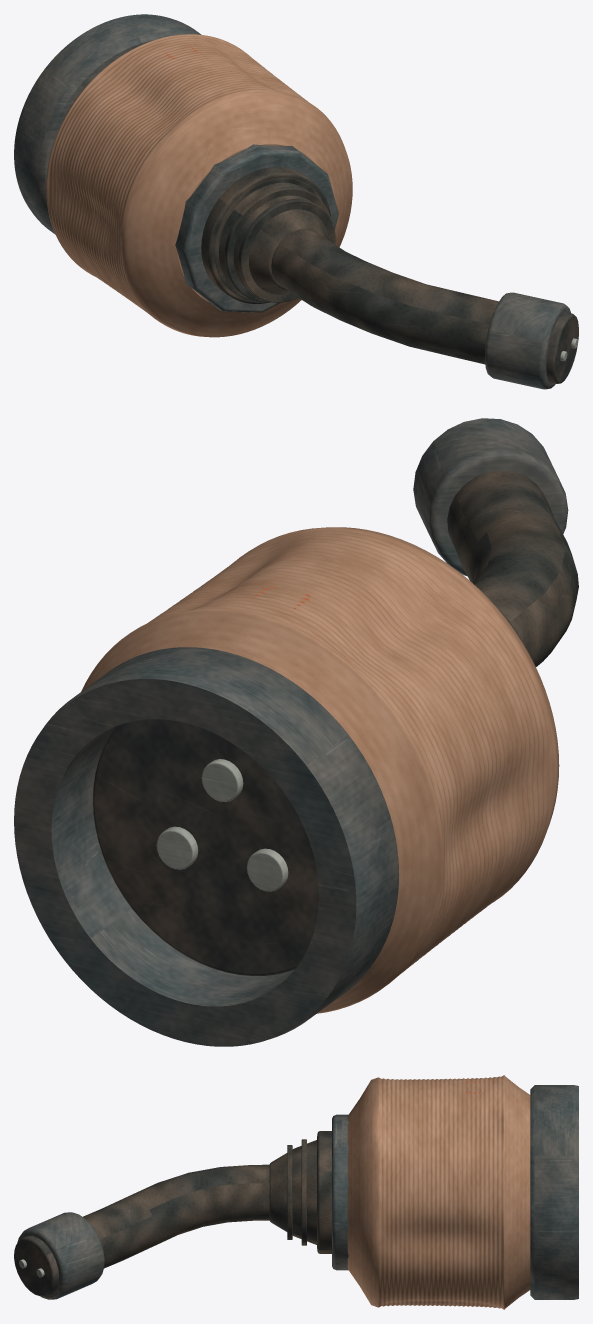
The model's file is beacon_connector.glb.
3 views of the same model, one above another, from view 1: azimuth 30°, elevation 25°; view 2: azimuth 150°, elevation 25°; view 3: azimuth 270°, elevation 25° (orthographic). The views are drawn at different scales.
Parts seen in each view (by area): view 1: LayeredGrip_printed, ShortCable_black_rubber, MatingSkirt_dark_alloy, RearCompressionNut_dark_alloy, SpliceSleeve_dark_alloy, StrainRelief_black_rubber, BootLand_black_rubber, BootRib3_black_rubber, BootRib2_black_rubber, SpliceInsert_graphite, BootRib1_black_rubber; view 2: LayeredGrip_printed, MatingSkirt_dark_alloy, ContactInsulator_graphite, ShortCable_black_rubber, SpliceSleeve_dark_alloy, RecessedContact3_satin_steel, RecessedContact1_satin_steel, RecessedContact2_satin_steel; view 3: LayeredGrip_printed, MatingSkirt_dark_alloy, ShortCable_black_rubber, SpliceSleeve_dark_alloy, StrainRelief_black_rubber, RearCompressionNut_dark_alloy, SpliceInsert_graphite, BootLand_black_rubber, BootRib2_black_rubber, BootRib3_black_rubber.
Part boxes in pixels (x1,y1,x2,y2): LayeredGrip_printed: (46,34,352,337); ShortCable_black_rubber: (271,229,498,364); MatingSkirt_dark_alloy: (14,14,201,234); RearCompressionNut_dark_alloy: (175,144,338,312); SpliceSleeve_dark_alloy: (485,292,570,389); StrainRelief_black_rubber: (218,182,328,294); BootLand_black_rubber: (201,167,330,303); BootRib3_black_rubber: (238,199,335,302); BootRib2_black_rubber: (224,186,331,302); SpliceInsert_graphite: (546,312,578,383); BootRib1_black_rubber: (214,178,322,299); LayeredGrip_printed: (81,527,559,1013); MatingSkirt_dark_alloy: (14,647,398,1046); ContactInsulator_graphite: (93,719,318,975); ShortCable_black_rubber: (447,470,578,666); SpliceSleeve_dark_alloy: (413,418,568,576); RecessedContact3_satin_steel: (201,759,243,801); RecessedContact1_satin_steel: (246,848,288,891); RecessedContact2_satin_steel: (156,826,198,869); LayeredGrip_printed: (347,1075,530,1309); MatingSkirt_dark_alloy: (530,1085,578,1299); ShortCable_black_rubber: (83,1164,269,1268); SpliceSleeve_dark_alloy: (17,1212,104,1299); StrainRelief_black_rubber: (269,1140,316,1244); RearCompressionNut_dark_alloy: (332,1114,348,1270); SpliceInsert_graphite: (14,1236,58,1296); BootLand_black_rubber: (317,1131,331,1253); BootRib2_black_rubber: (301,1139,306,1245); BootRib3_black_rubber: (287,1145,292,1239).
Size of the model in its own units: 0.0584 by 0.0504 by 0.121.
Materials: 6 (6 with a texture image).
